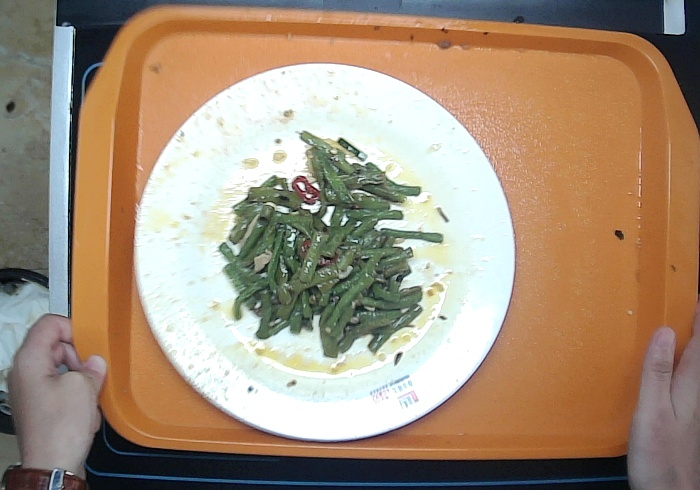ZNLD-Da_Yuan_Pan: (131, 61, 516, 444)
